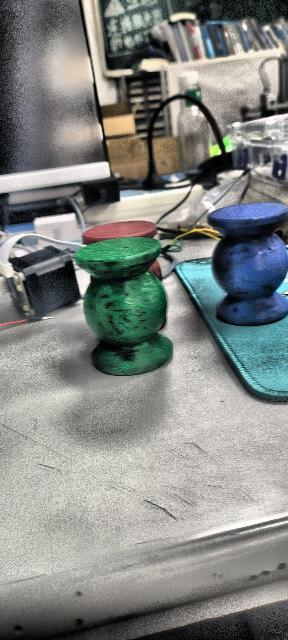blue: (209, 197, 288, 329)
green: (73, 235, 174, 383)
red: (82, 219, 167, 284)
